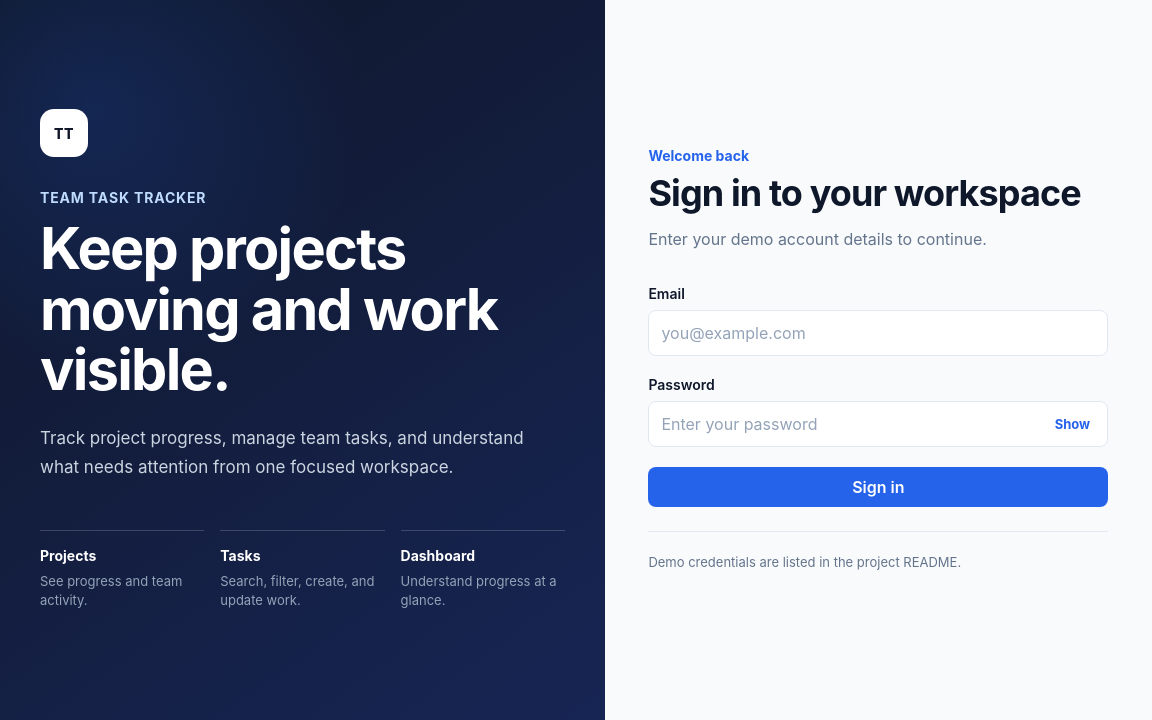
Scenario: SignInPage › shows required-field validation errors and does not attempt to sign in
Click the button "Sign in".
click(878, 487)  # box [648,467,1108,507]
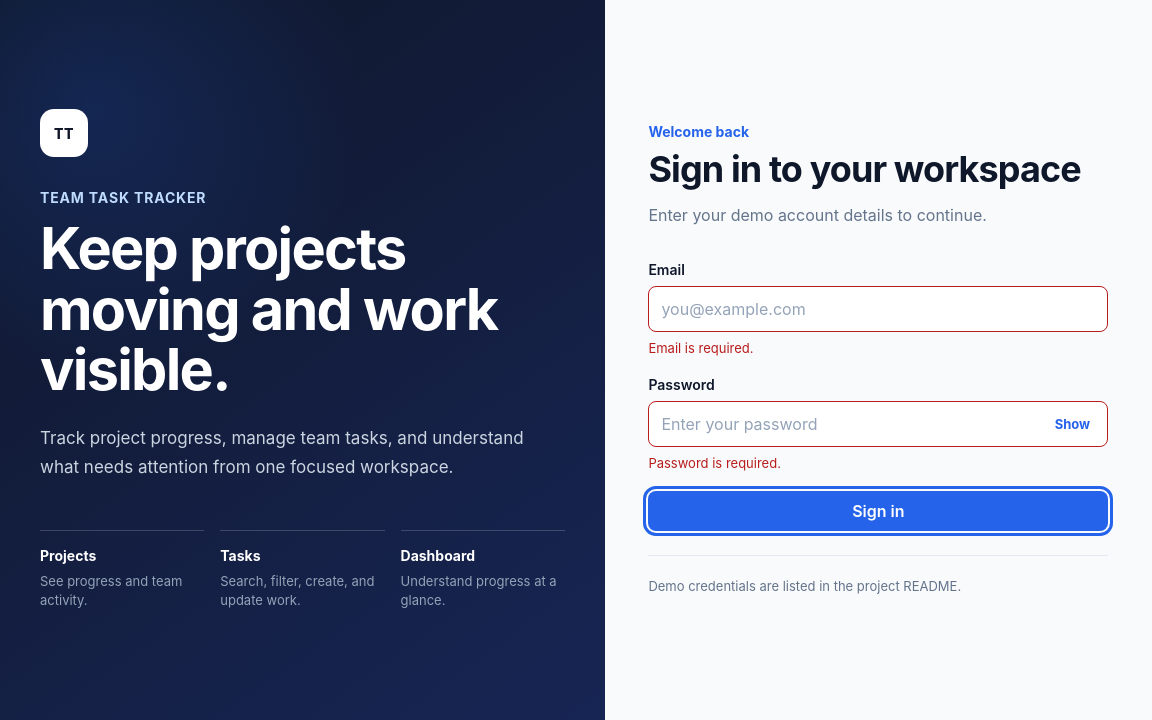
Result: the text "Email is required." is shown at [648,340,754,356]
Result: the text "Password is required." is shown at [648,455,781,471]
